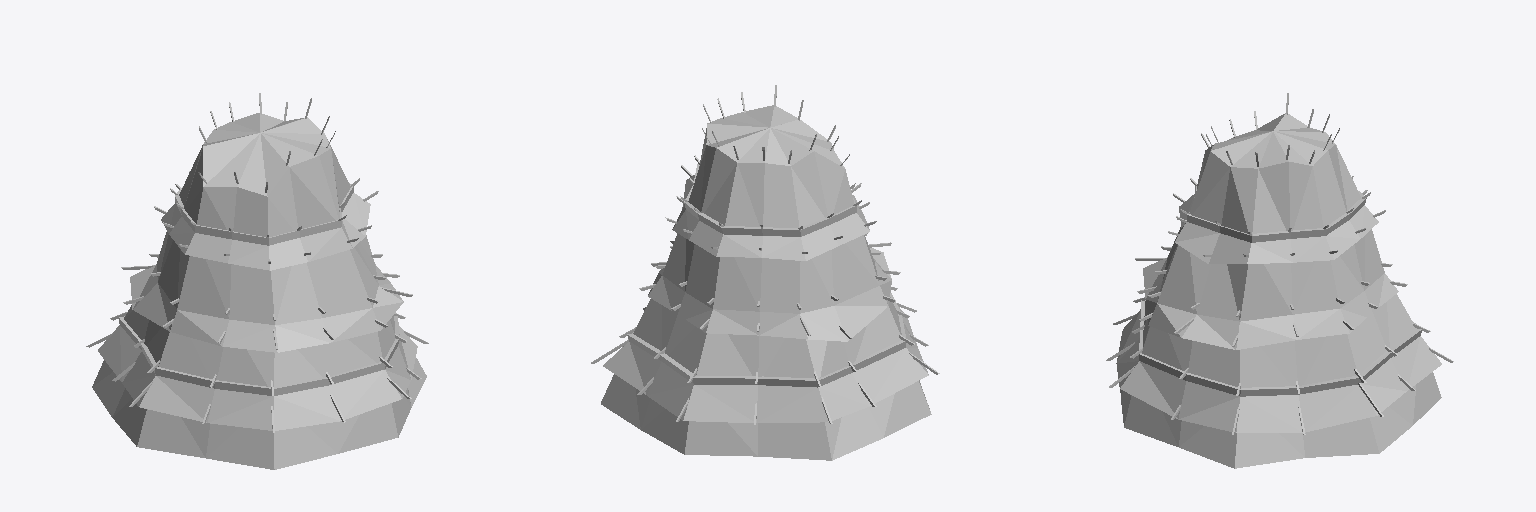
File: Hay_1.obj
3 views of the same model, side by side, from view 1: azimuth 30°, elevation 25°; view 2: azimuth 150°, elevation 25°; view 3: azimuth 270°, elevation 25° (orthographic).
Visible parts, largest first — view 1: Hay_1; view 2: Hay_1; view 3: Hay_1.
Part boxes in pixels (x1,y1,x2,y2): Hay_1: (86, 93, 428, 469); Hay_1: (591, 85, 939, 460); Hay_1: (1106, 93, 1453, 468).
Bounding box in the file's own units: 1.64 × 1.47 × 1.66.